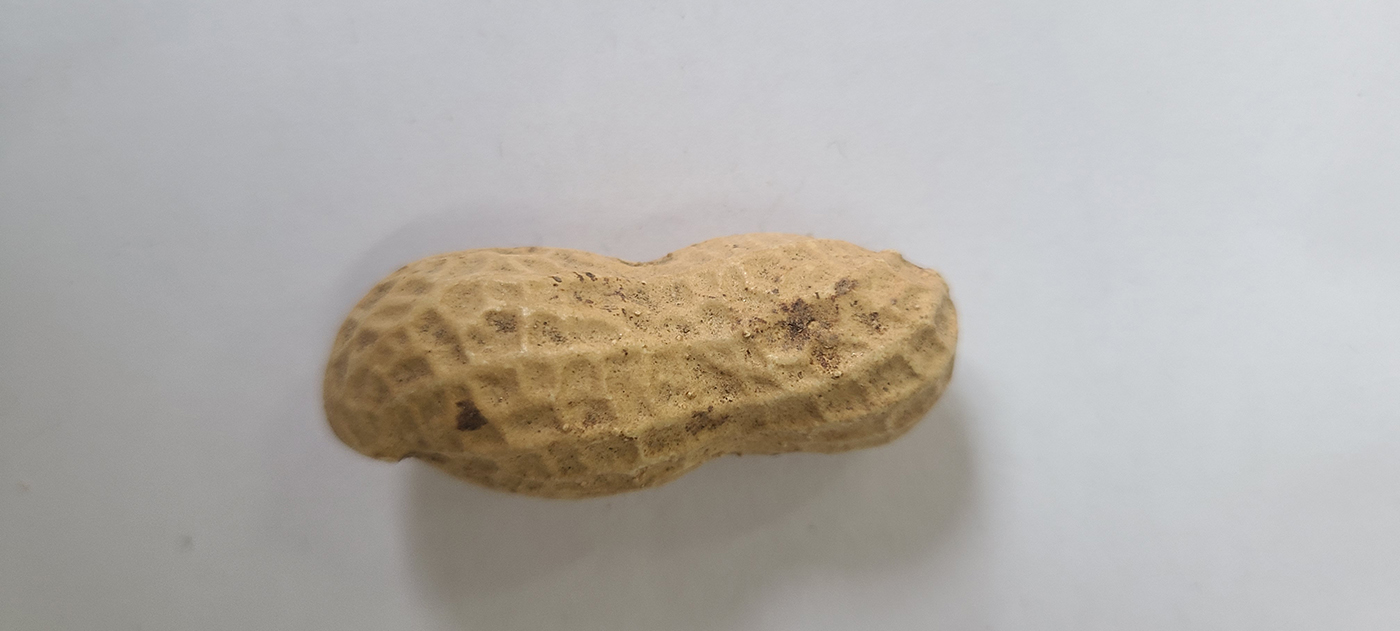h: (321, 226, 959, 500)
